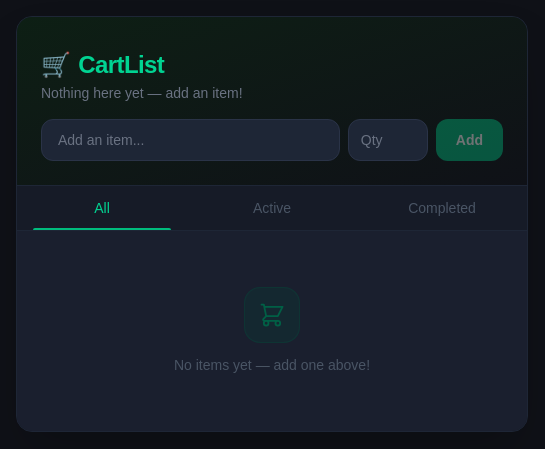
Test: TodoApp › Adding items › adds a new item on Add button click
The width and height of the screenshot is (545, 449).
Type "Read a book" into the field with placeholder "Add an item...". click: (190, 140)
box: [41, 119, 340, 161]
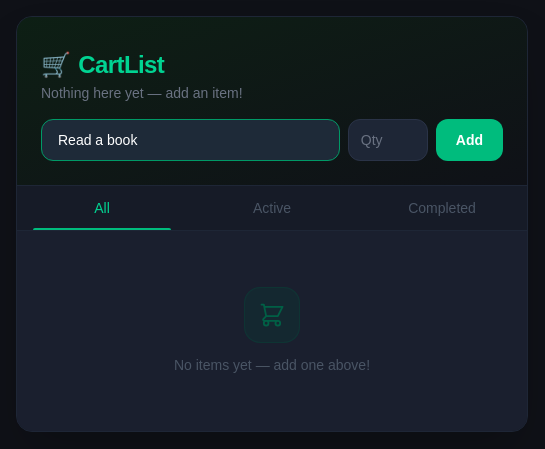
Click the button "Add". click: (469, 140)
box: [436, 119, 503, 161]
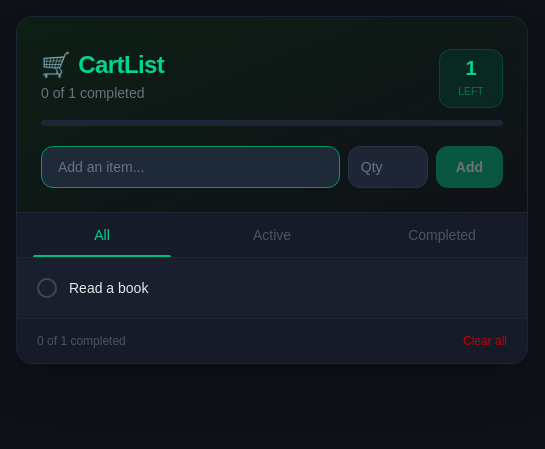
Now the text "Read a book" is shown, box [69, 280, 148, 296]
